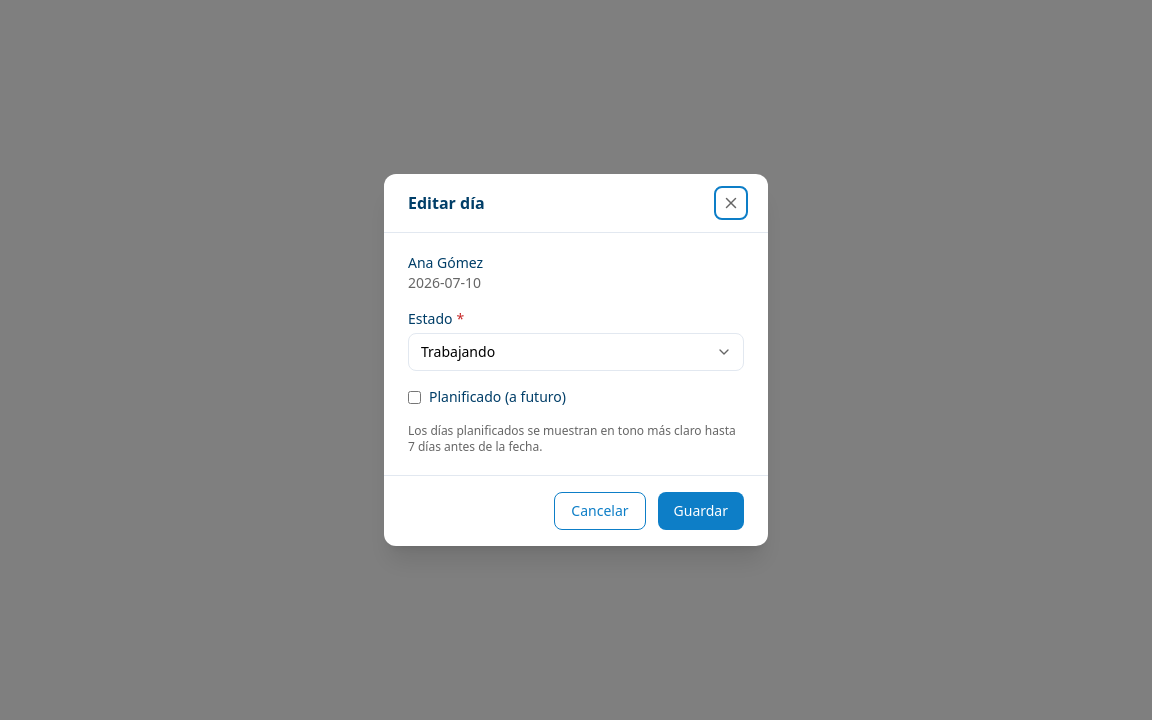
Test: CellEditModal: validación de motivo obligatorio › periodo_fuera_trabajo sin motivo bloquea el guardado y muestra el error
The image size is (1152, 720).
Select "Fuera del trabajo" in the dropdown labelled "Estado" at x=576, y=352, box [408,333,744,371]
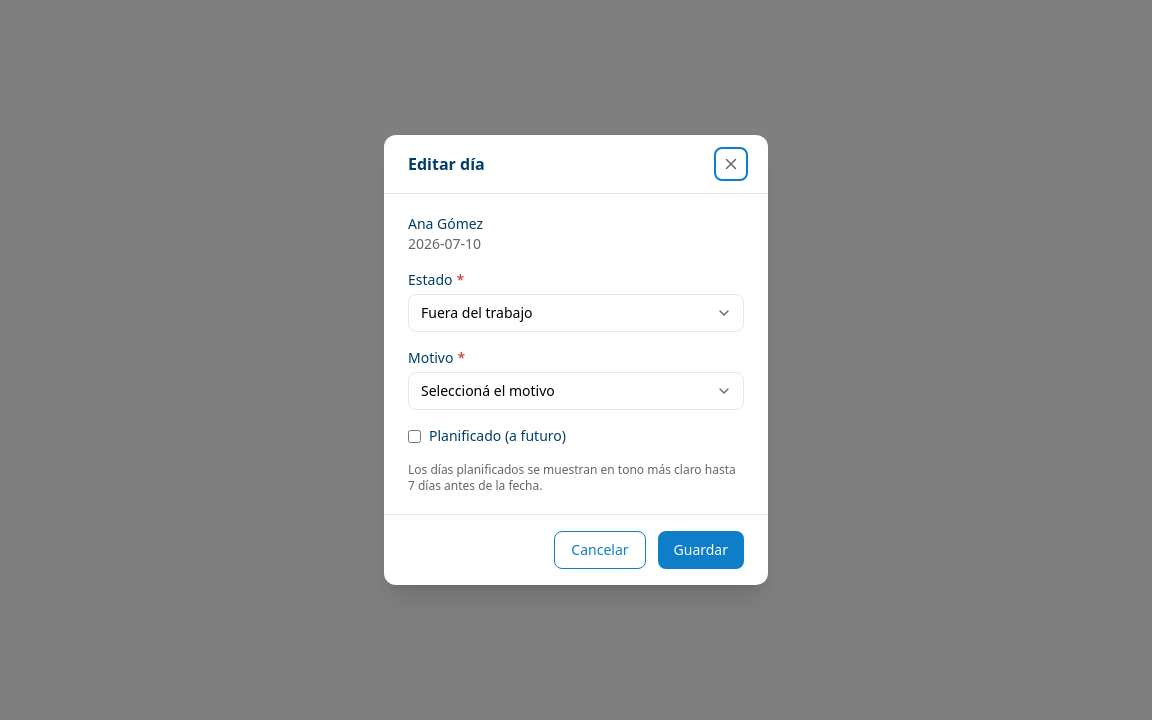
Submit the form with id "cell-edit-form", box [408,214,744,494]
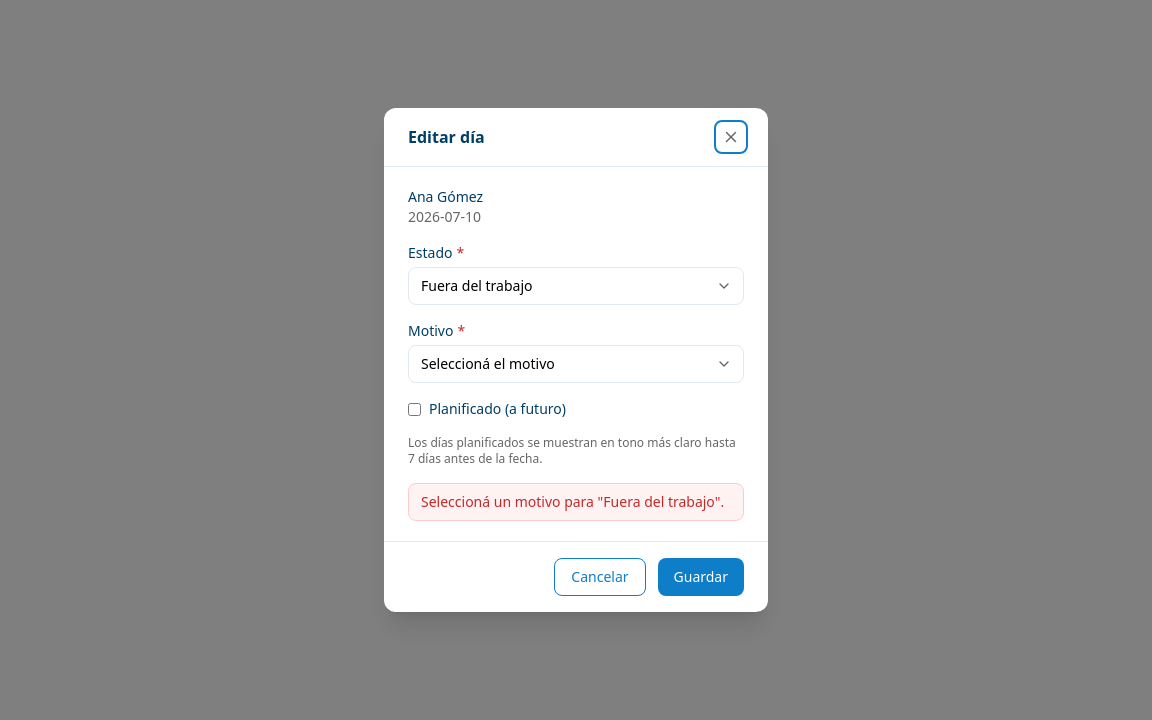
expect the text "Seleccioná un motivo para \"Fuera del trabajo\"." is shown: met, box [408,483,744,521]
